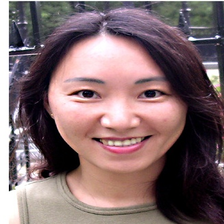no_mask: (51, 41, 189, 172)
